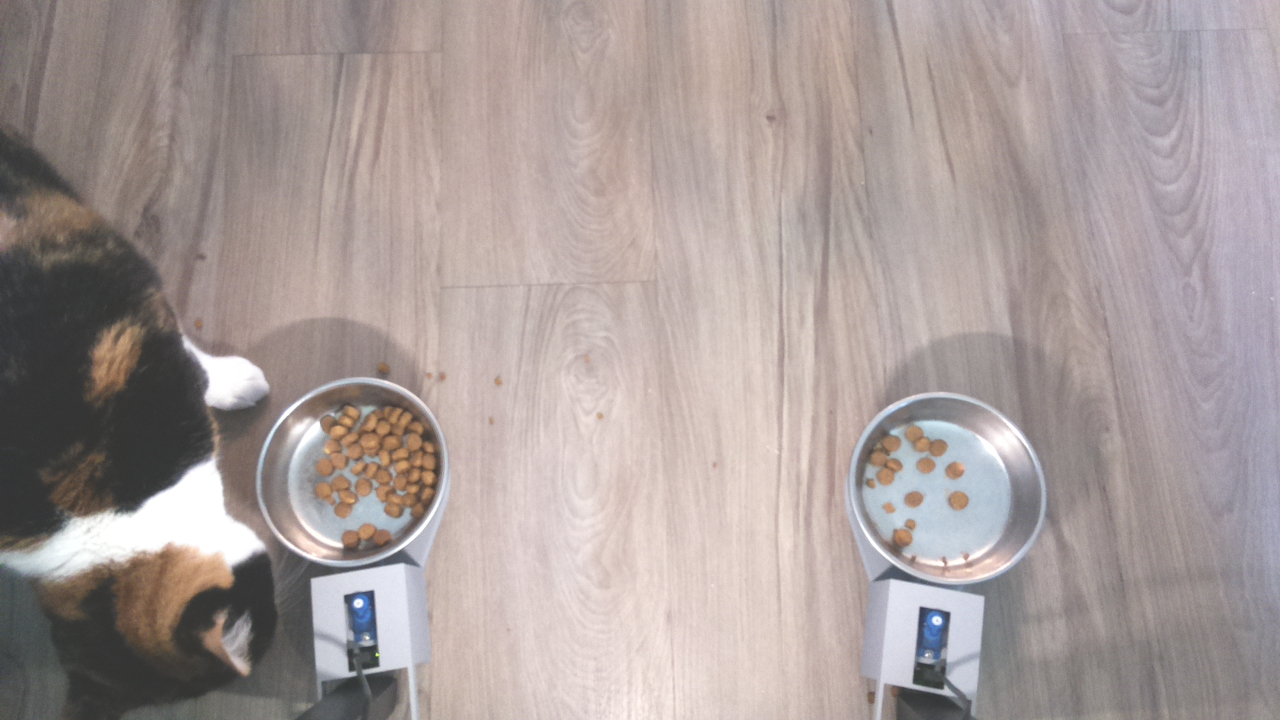bella: (1, 484, 282, 715)
open_bowl: (845, 377, 1061, 592), (256, 366, 462, 579)
